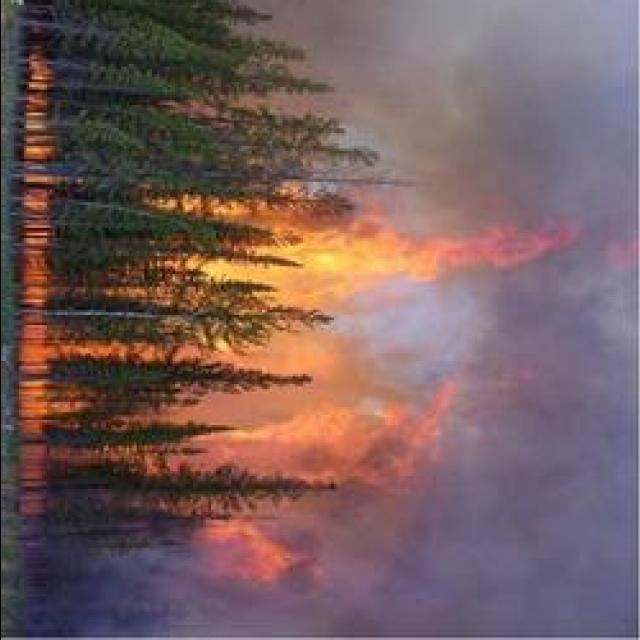fire: (332, 232, 400, 276), (287, 408, 350, 451), (250, 536, 284, 574), (294, 269, 330, 295)
smoke: (478, 298, 636, 534), (456, 41, 637, 217), (429, 502, 640, 638), (19, 554, 222, 640), (323, 0, 449, 97), (314, 508, 396, 636), (323, 316, 418, 404), (570, 205, 634, 312), (356, 434, 432, 488)
